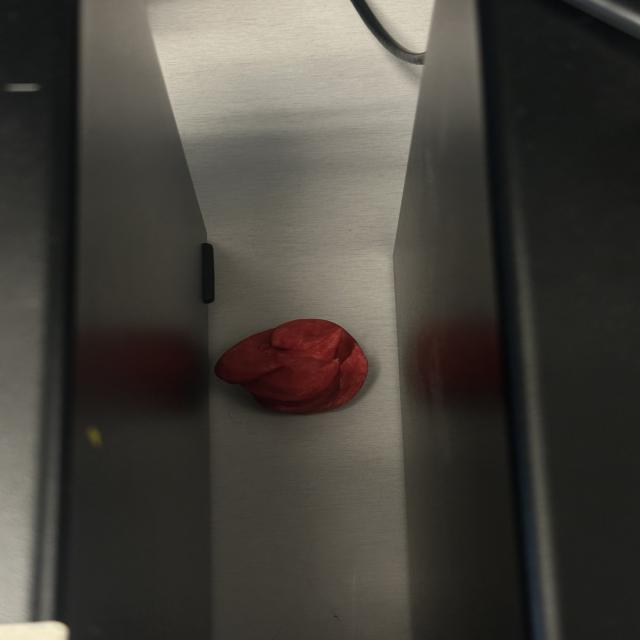fire: (212, 315, 371, 415)
